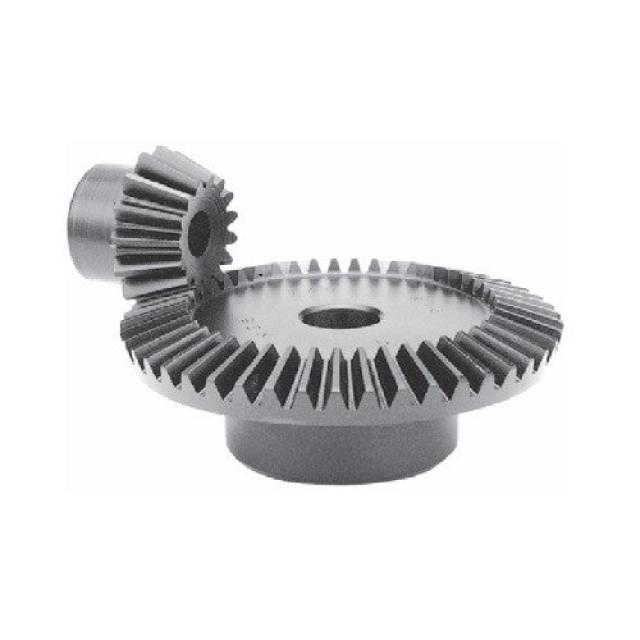Gear: (116, 251, 565, 485), (66, 146, 242, 307)
